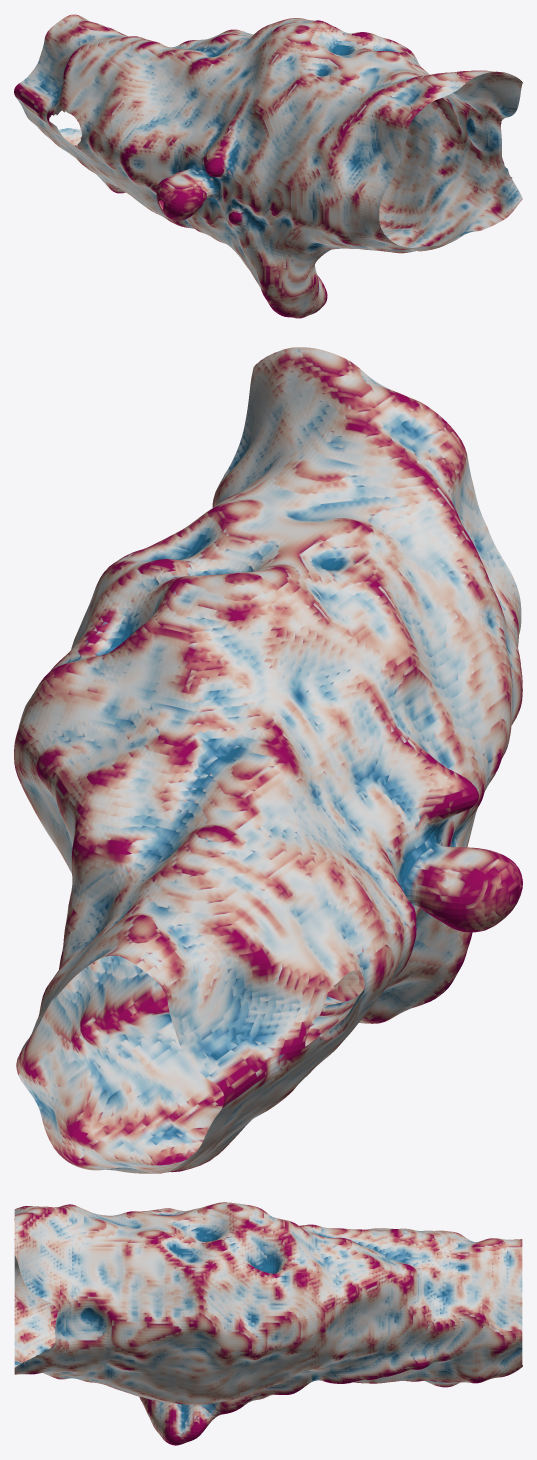
Rendered from crop1141_curvature.glb.
3 renders of one model, top to bottom at view 1: azimuth 30°, elevation 25°; view 2: azimuth 150°, elevation 25°; view 3: azimuth 270°, elevation 25°, orthographic. The views are drawn at different scales.
Visible parts, largest first — view 1: world; view 2: world; view 3: world.
Boxes of the visible parts, x1,y1,x2,y2 form: world: (14, 14, 522, 318); world: (14, 347, 522, 1173); world: (14, 1202, 522, 1445).
Bounding box in the file's own units: 1480 × 1553 × 2679.
